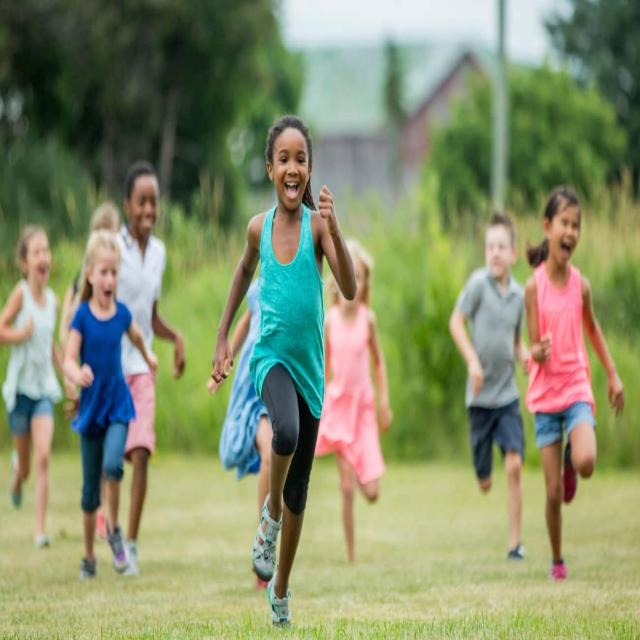Person: (212, 113, 356, 629), (525, 189, 624, 580), (63, 232, 157, 577), (448, 213, 531, 560), (120, 162, 186, 576), (326, 238, 392, 560), (0, 223, 56, 550)
